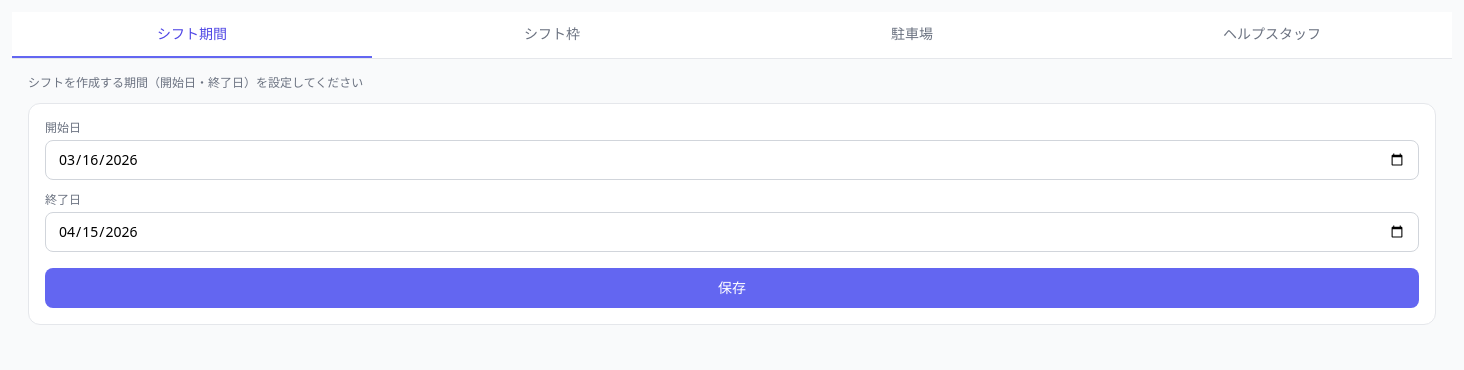
SettingsPage › シフト期間バリデーション › 期間が35日を超える場合はエラーが表示され保存されない
Click the button "シフト期間" at (192, 35), box [12, 12, 372, 58]
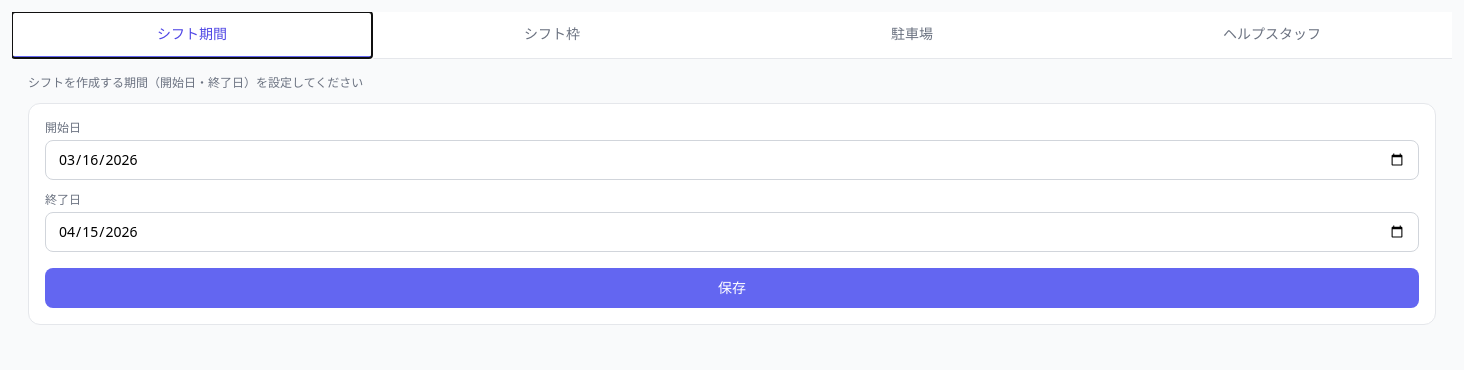
Type "2025-02-01" into the 1st date field at (732, 160), box [45, 140, 1419, 180]
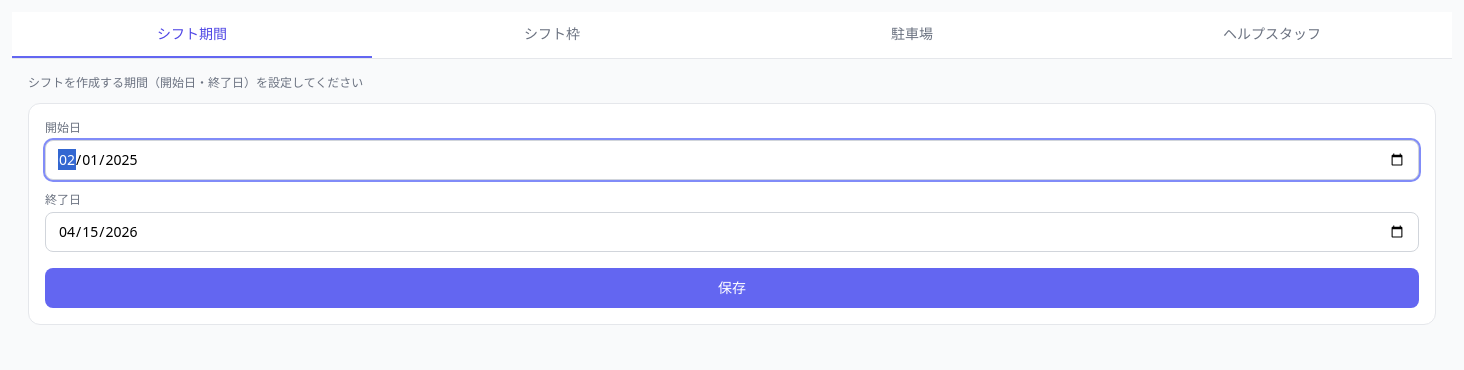
Type "2025-03-10" into the 2nd date field at (732, 232), box [45, 212, 1419, 252]
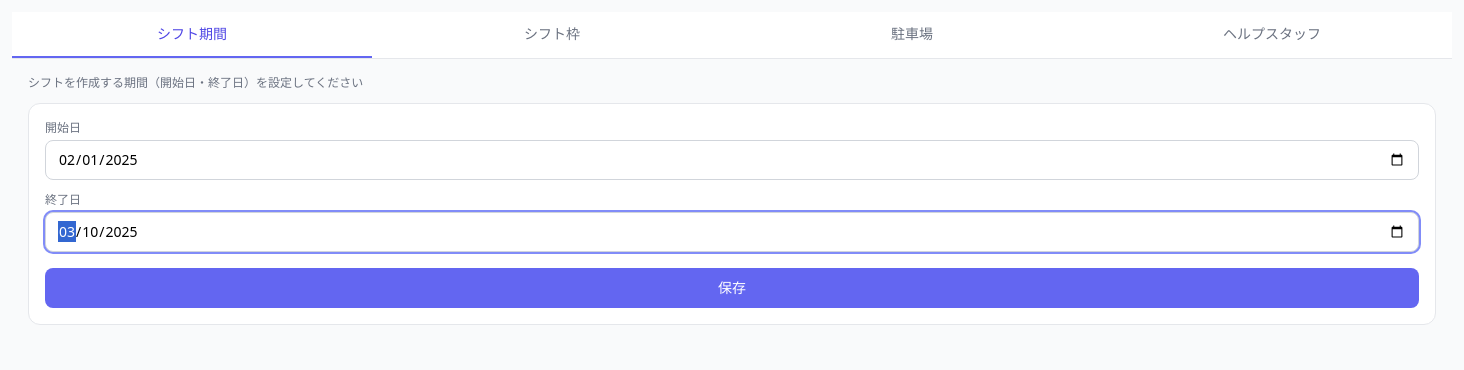
Click the button "保存" at (732, 288), box [45, 268, 1419, 308]
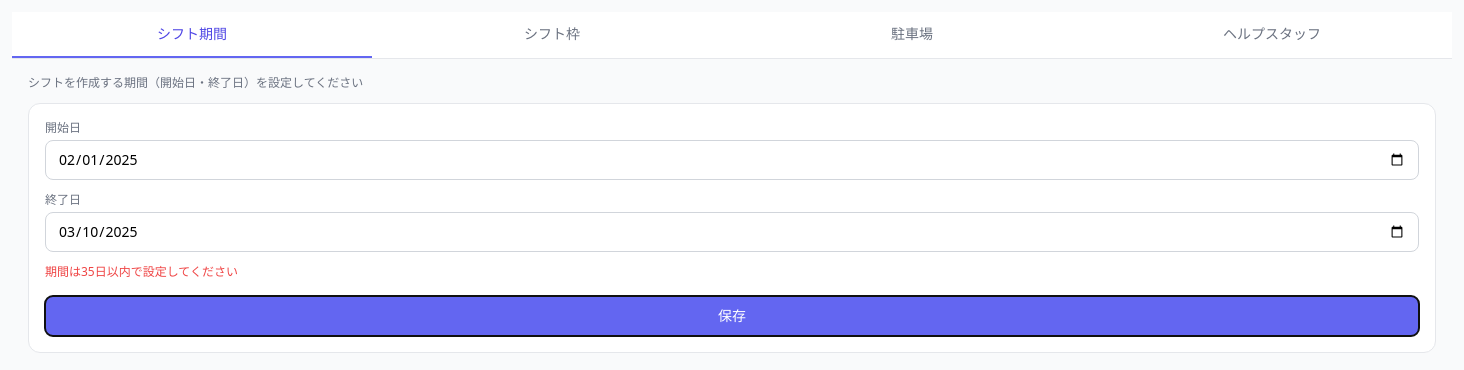
Expected: the text "期間は35日以内で設定してください" is shown, [45, 263, 238, 280]
